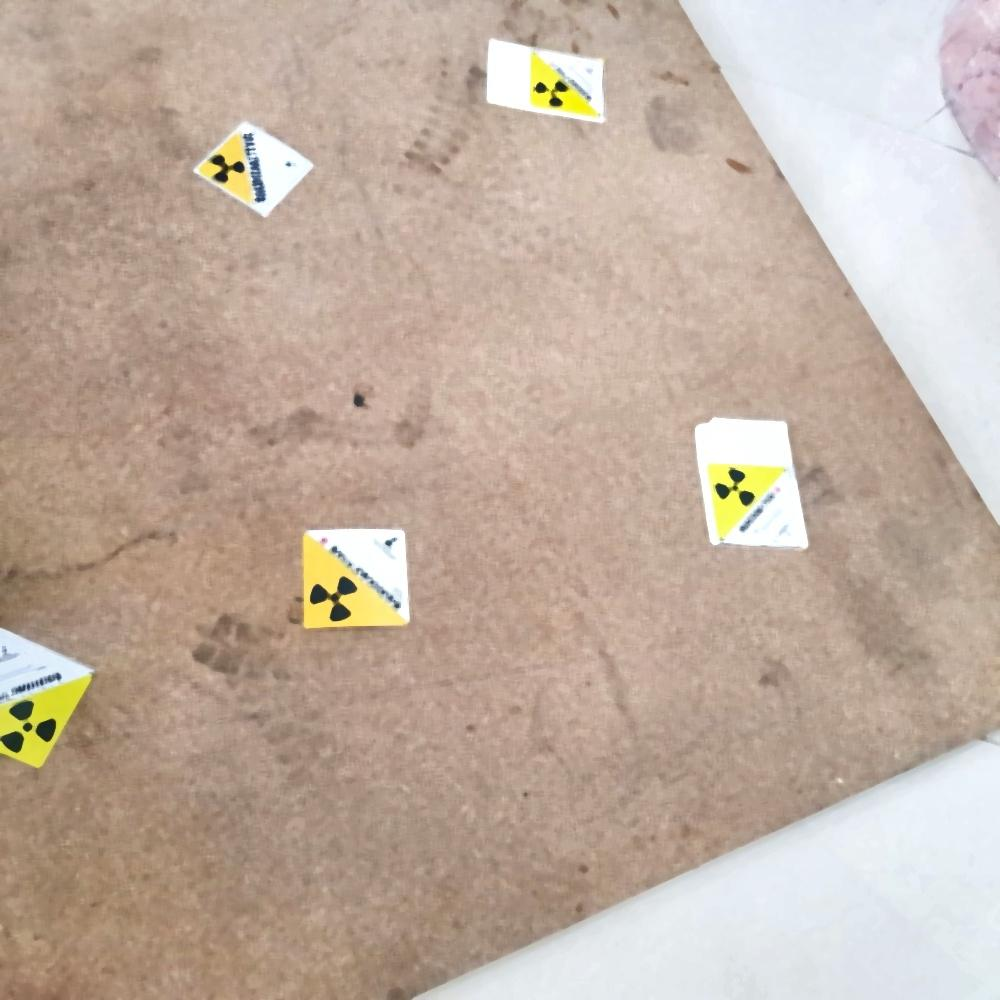radioactive: (1, 622, 94, 773), (192, 121, 312, 216), (304, 528, 411, 627), (703, 459, 806, 549), (528, 42, 606, 123)
